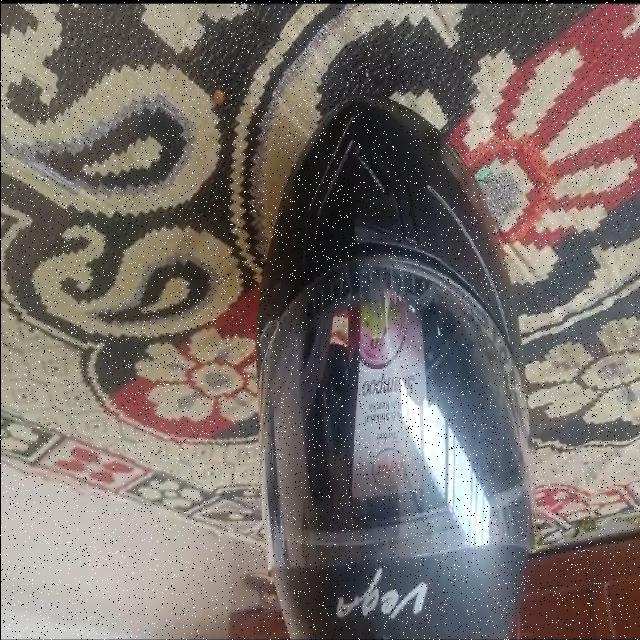Helmet: (254, 93, 534, 637)
